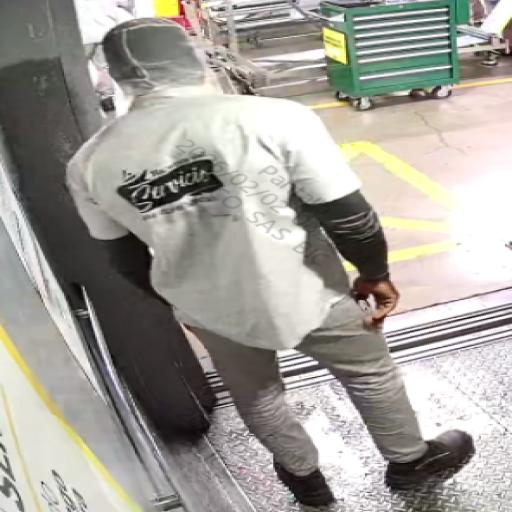persona: (36, 8, 512, 491)
